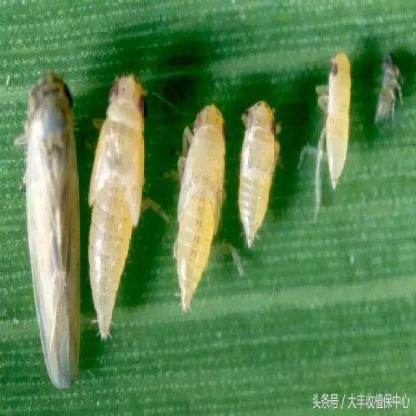grasshopper: (22, 70, 83, 391), (89, 57, 151, 344), (165, 97, 228, 324), (236, 87, 280, 248), (316, 45, 351, 208), (375, 47, 406, 131)
